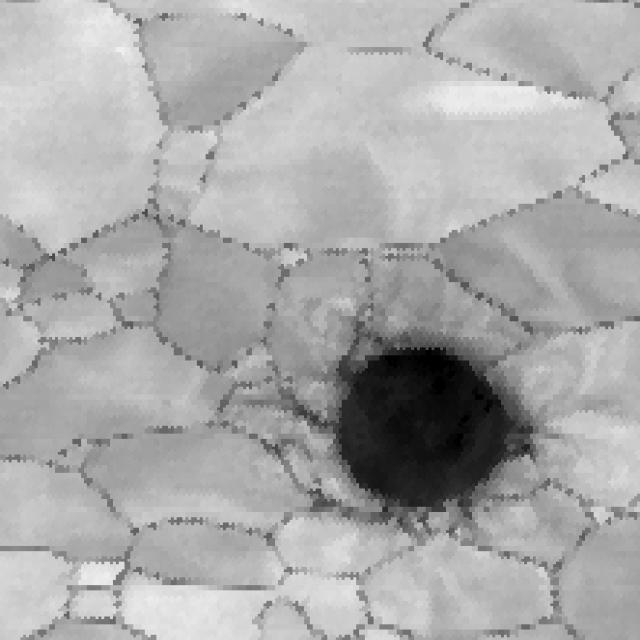good_void: (285, 334, 529, 527), (272, 237, 300, 254)
